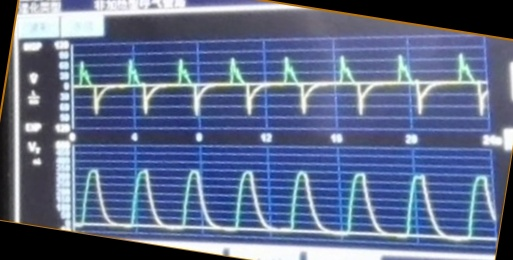Accumulation Flow: (75, 49, 488, 122)
Volume: (76, 163, 494, 242)
